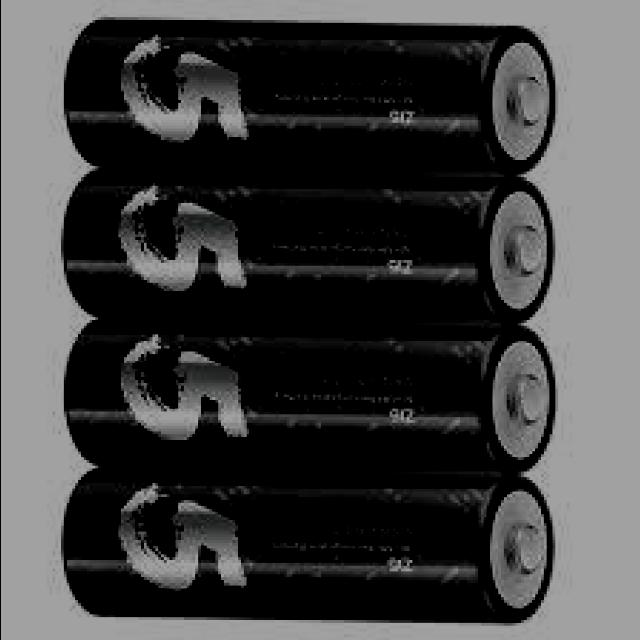AA: (65, 17, 558, 174), (63, 468, 557, 623), (65, 320, 558, 474), (63, 171, 557, 323)
